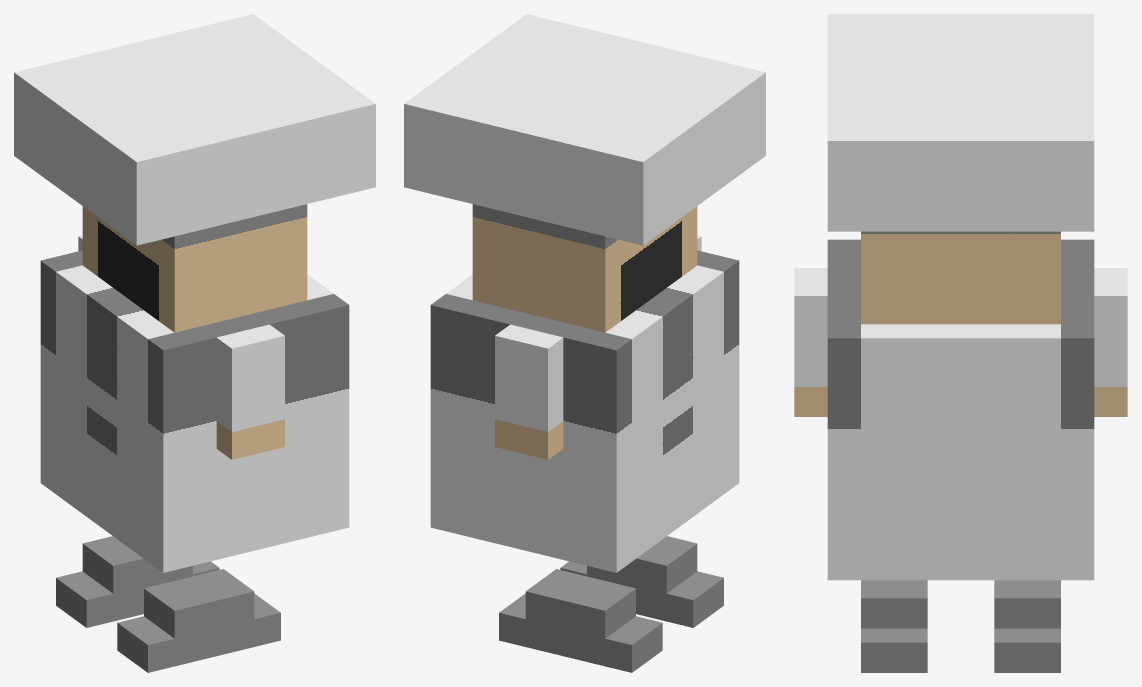
Rendered from Player_10.fbx.
3 renders of one model, left to right at view 1: azimuth 30°, elevation 25°; view 2: azimuth 150°, elevation 25°; view 3: azimuth 270°, elevation 25°, orthographic. The views are drawn at different scales.
Visible parts, largest first — view 1: Main, LeftFoot, LeftHand, RightFoot; view 2: Main, RightFoot, RightHand, LeftFoot; view 3: Main, LeftFoot, RightFoot, RightHand, LeftHand.
Part boxes in pixels (left/top/right/bottom): Main: left=14, top=14, right=375, bottom=572; LeftFoot: left=117, top=569, right=280, bottom=672; LeftHand: left=216, top=324, right=284, bottom=459; RightFoot: left=56, top=536, right=219, bottom=627; Main: left=404, top=14, right=765, bottom=572; RightFoot: left=499, top=569, right=662, bottom=672; RightHand: left=495, top=324, right=563, bottom=459; LeftFoot: left=560, top=536, right=723, bottom=627; Main: left=827, top=14, right=1094, bottom=580; LeftFoot: left=861, top=580, right=927, bottom=672; RightFoot: left=994, top=580, right=1060, bottom=672; RightHand: left=1094, top=268, right=1127, bottom=416; LeftHand: left=794, top=268, right=827, bottom=416.
Size of the model in its own units: 9 by 19 by 10.
Materials: 1 (1 with a texture image).
